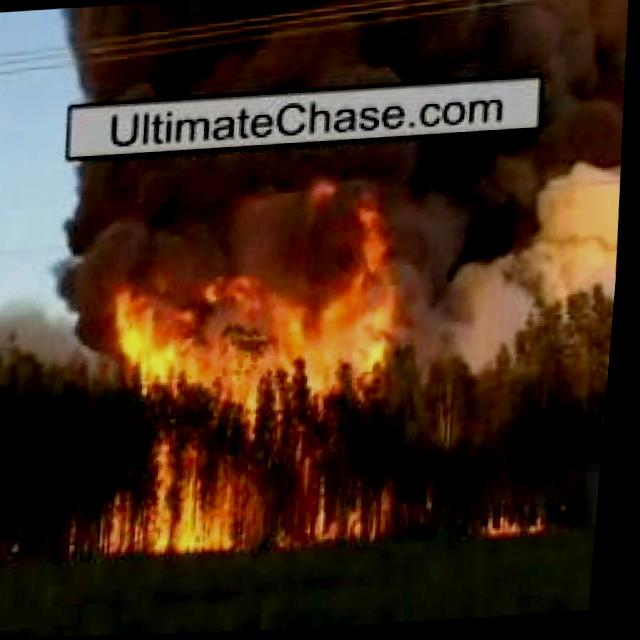Fire: (100, 250, 415, 557), (484, 512, 562, 542)
Smoke: (66, 129, 630, 300), (47, 0, 632, 111)
